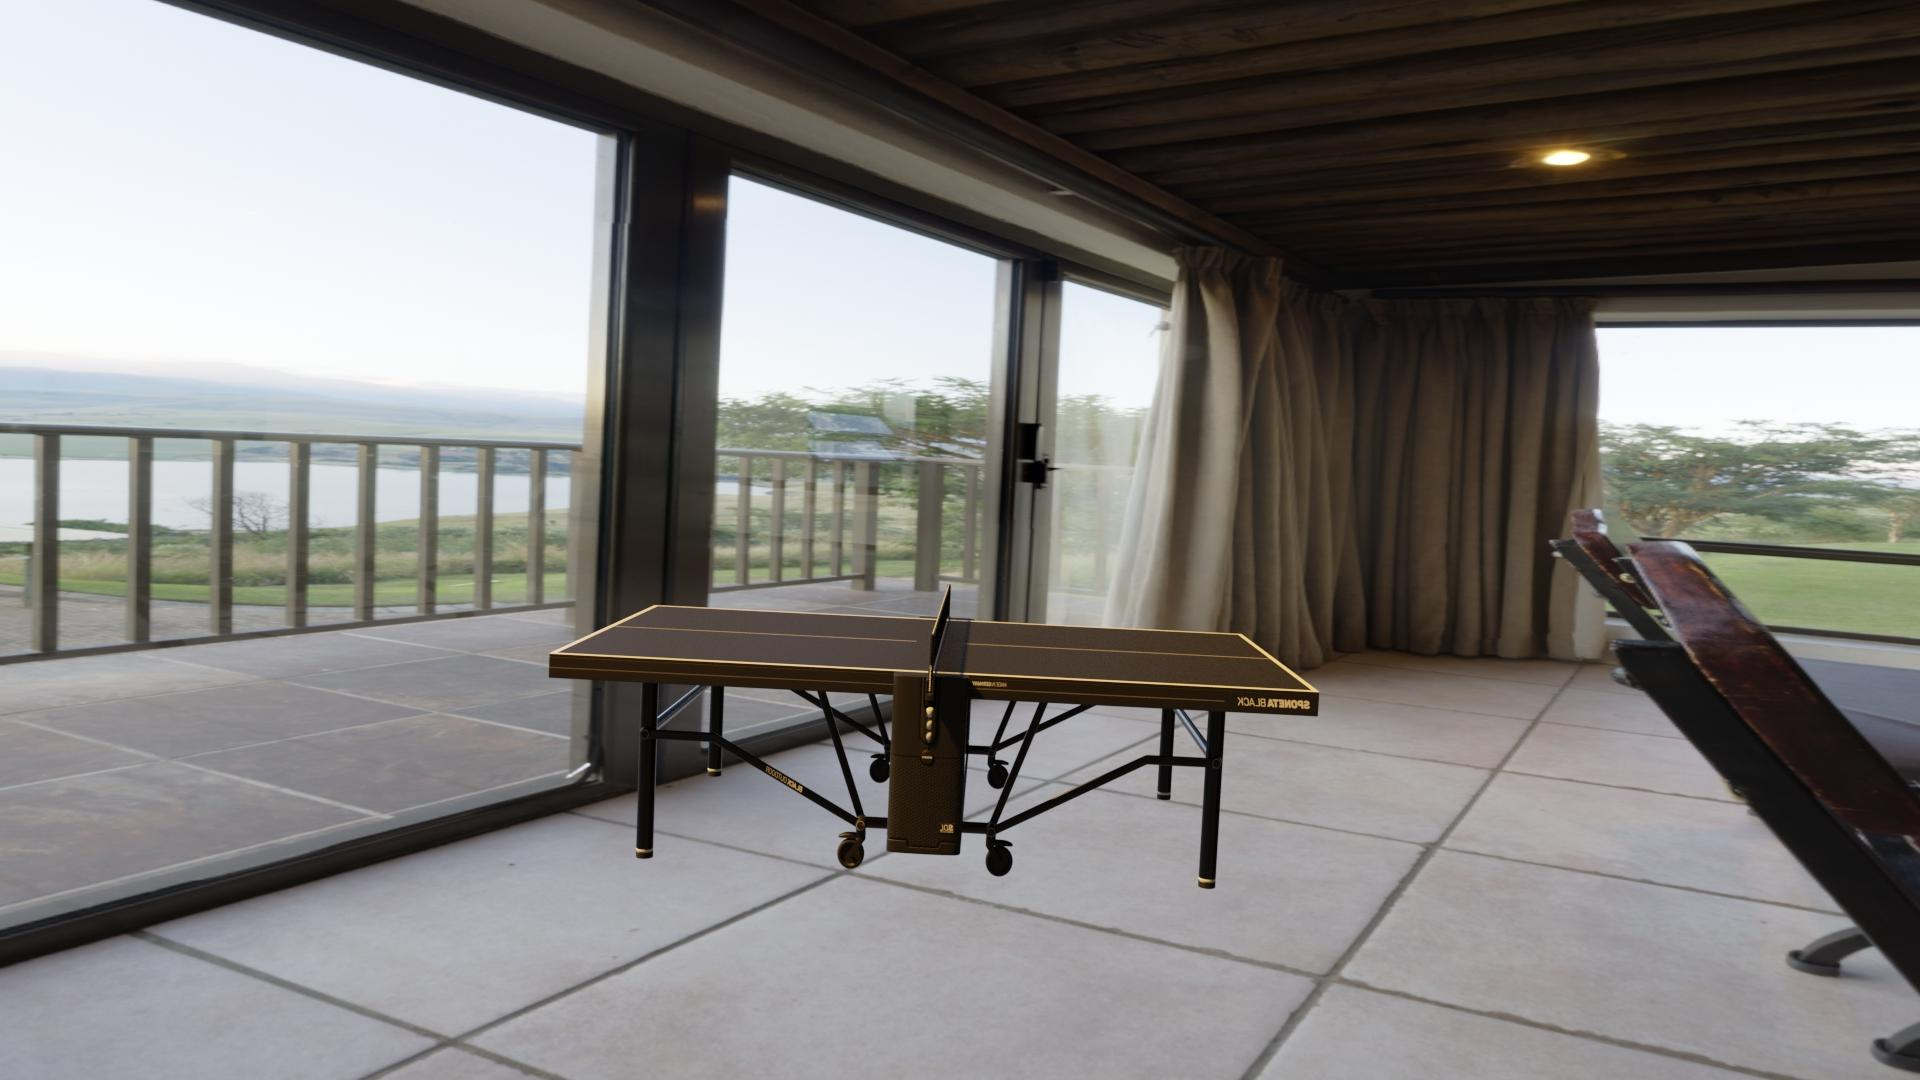table: (556, 607, 1312, 691)
